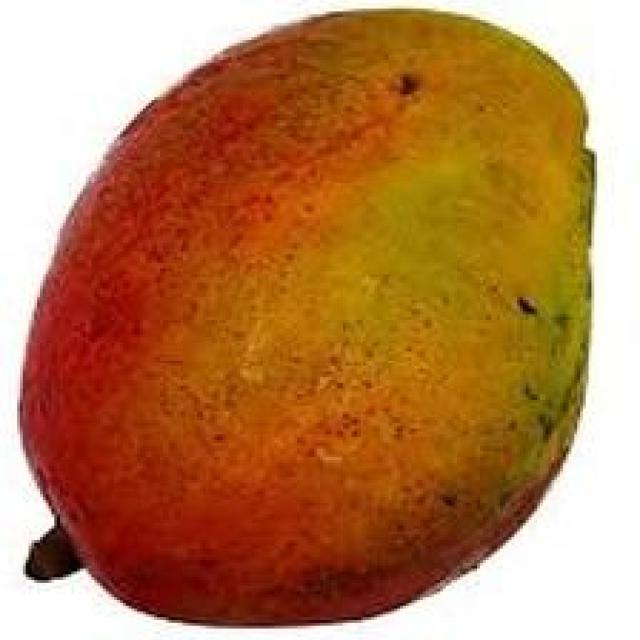Good_Mango: (17, 9, 597, 626)
